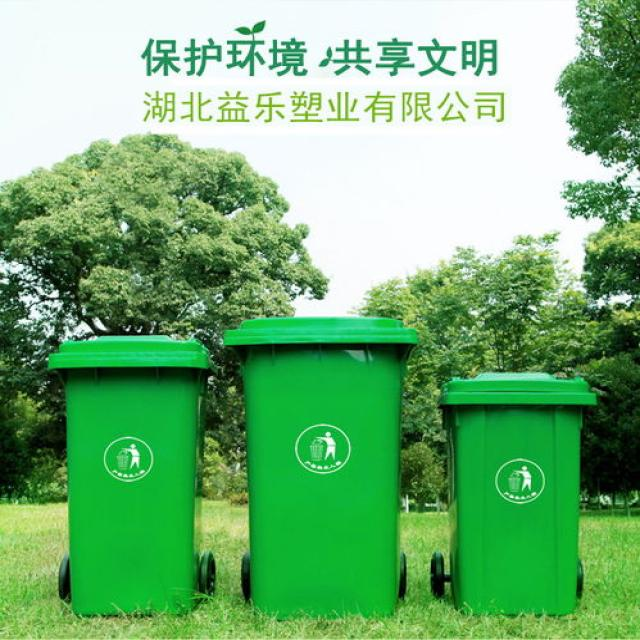garbage_bin: (222, 316, 417, 619), (47, 336, 213, 615), (438, 371, 594, 614)
